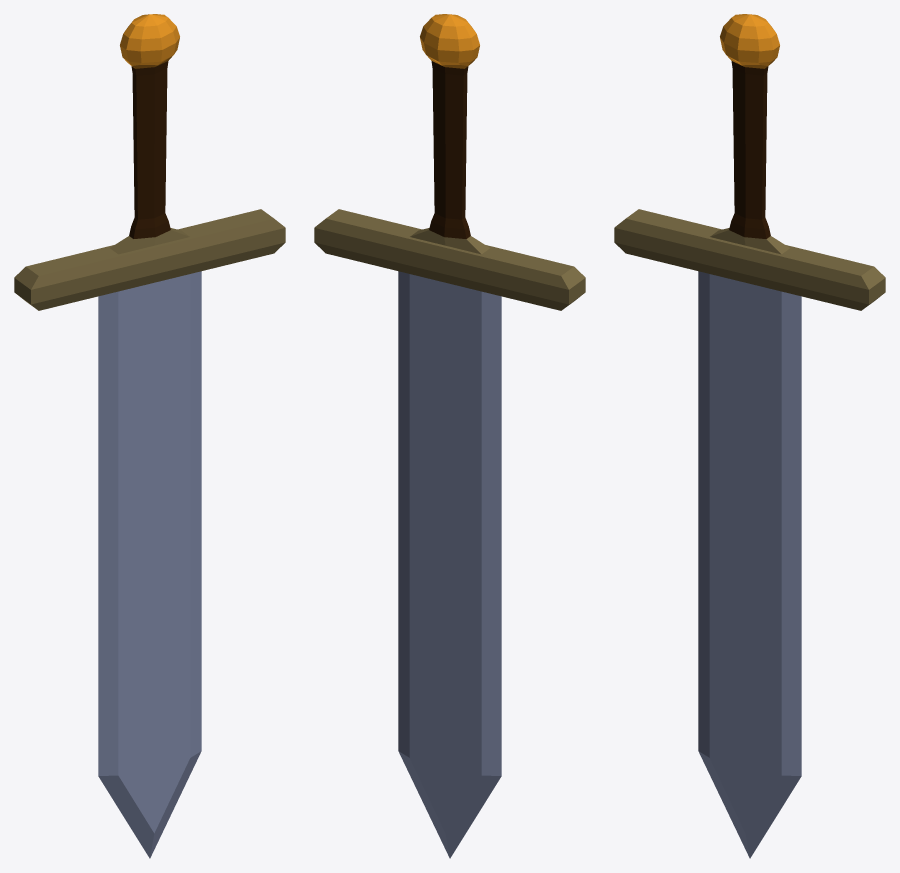
The model's file is Sword.fbx.
3 renders of one model, left to right at view 1: azimuth 30°, elevation 25°; view 2: azimuth 150°, elevation 25°; view 3: azimuth 330°, elevation 25°, orthographic.
Parts seen in each view (by area): view 1: Sword; view 2: Sword; view 3: Sword.
Boxes of the visible parts, <box> form: Sword: <box>14,14,285,858</box>; Sword: <box>314,14,585,858</box>; Sword: <box>614,14,885,858</box>.
Size of the model in its own units: 279 by 883 by 46.69.
